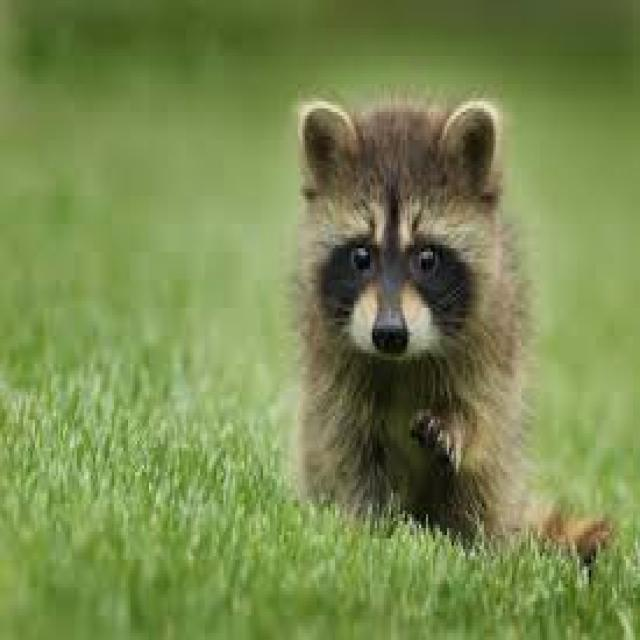raccoon: (298, 98, 528, 532)
